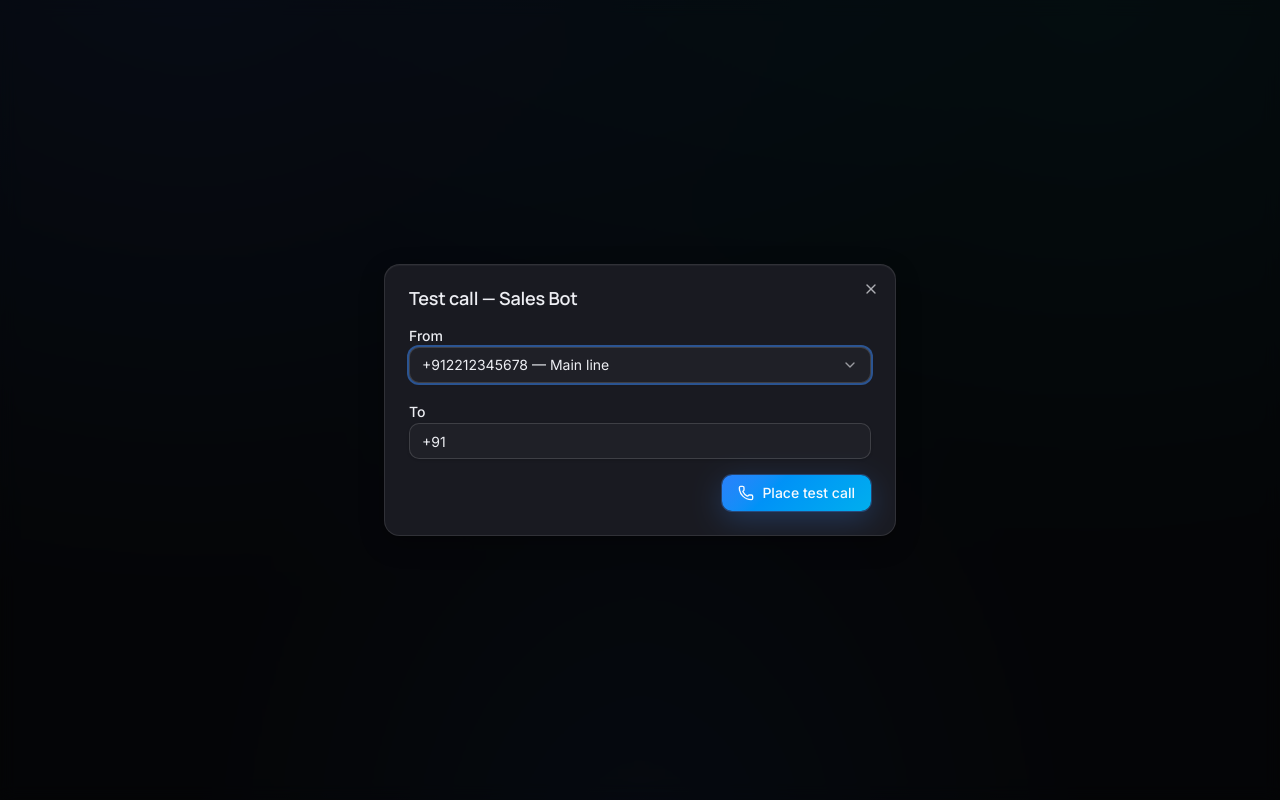
it: TestCallDialog › shows the backend's rate-limit message inline, not a raw/blank failure
This screenshot has width=1280, height=800.
Click the button "Place test call": point(797, 493) [722,475,871,511]
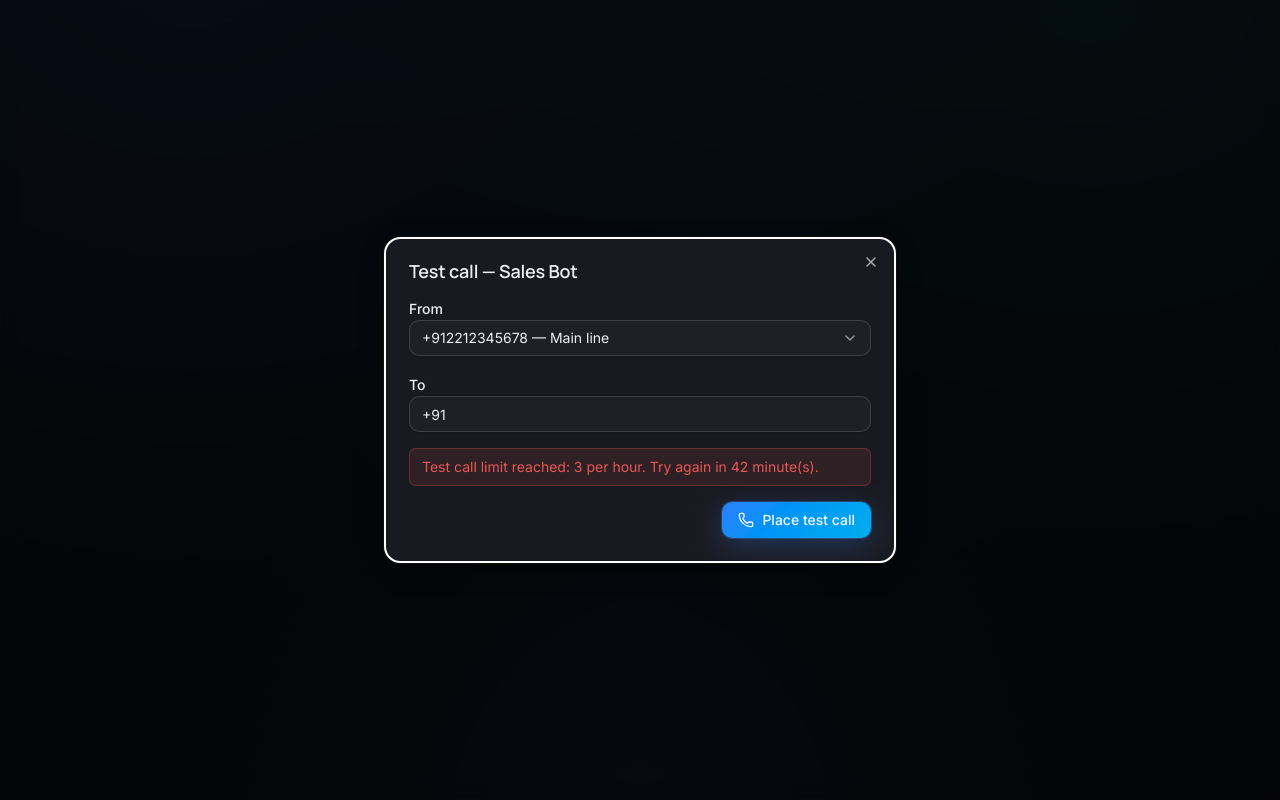
expect the text "Test call limit reached: 3 per hour. Try again in 42 minute(s)." is shown: met, box [409,448,871,486]
